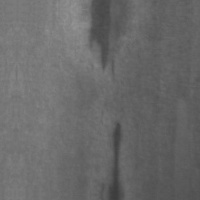inclusion: (96, 118, 132, 195), (82, 10, 117, 76)
